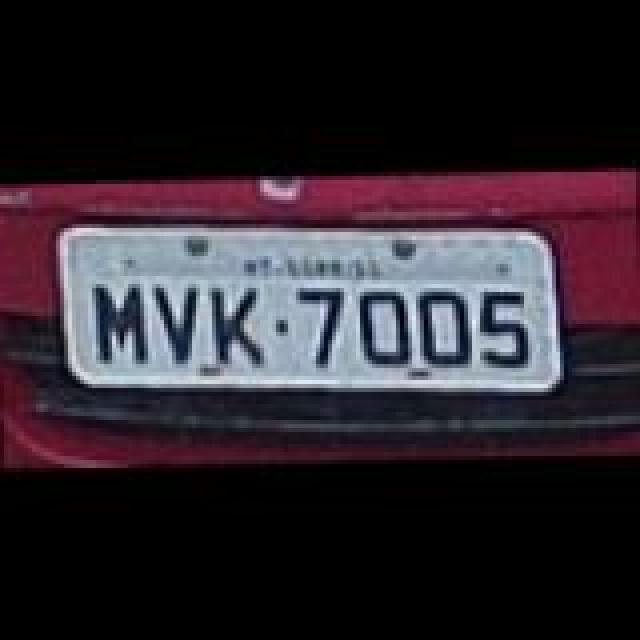5: (472, 286, 536, 366)
7: (296, 286, 360, 366)
D: (410, 288, 478, 368), (350, 284, 418, 364)
K: (208, 284, 272, 364)
M: (92, 282, 156, 366)
V: (150, 280, 210, 360)
